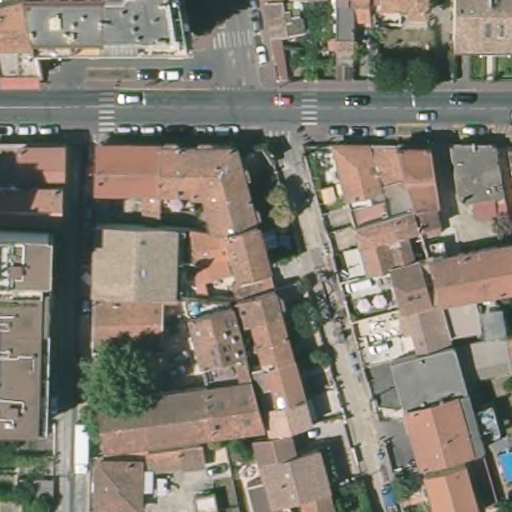pool: (495, 447, 512, 494)
